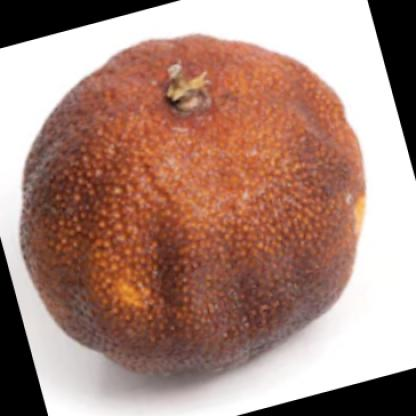rotten_orange: (19, 29, 366, 374)
